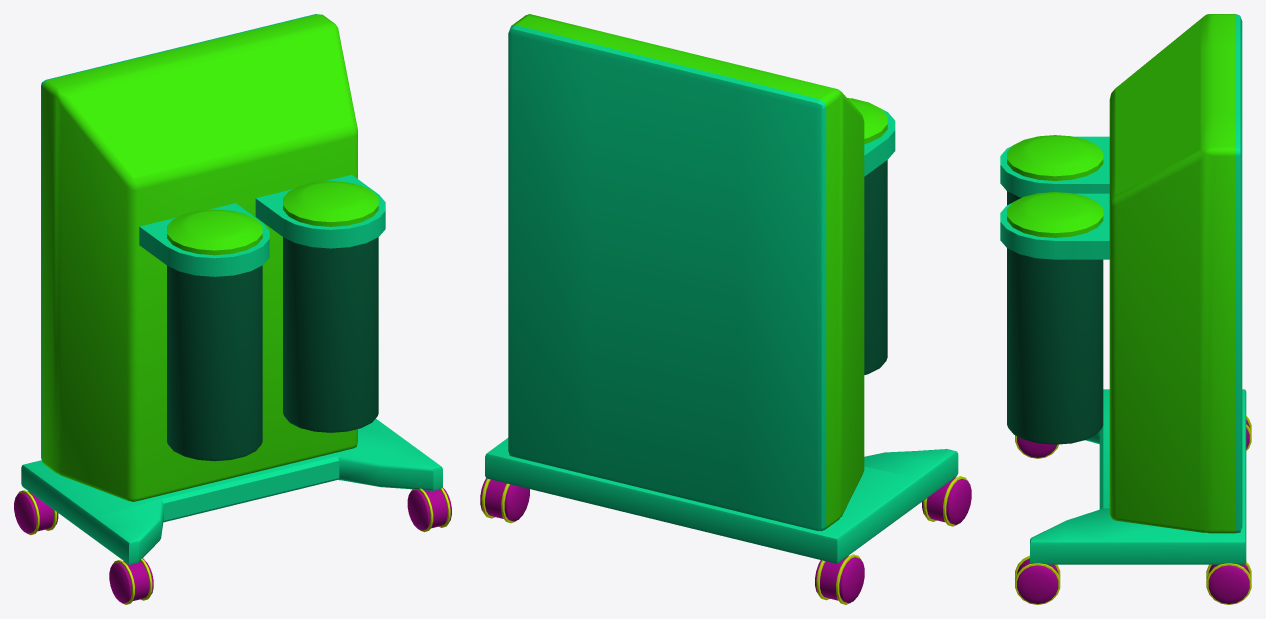
The model's file is RespiradorOxigenoChiquito.FBX.
The picture shows the model from 3 angles, left to right: view 1: azimuth 30°, elevation 25°; view 2: azimuth 150°, elevation 25°; view 3: azimuth 270°, elevation 25°; orthographic projection. The views are drawn at different scales.
Visible parts, largest first — view 1: Respirador07, Respirador02, Respirador01, Respirador06, Respirador03, Respirador05, Respirador00; view 2: Respirador07, Respirador06, Respirador02, Respirador00, Respirador03, Respirador04; view 3: Respirador07, Respirador01, Respirador06, Respirador02, Respirador05, Respirador04, Respirador03.
Part boxes in pixels (box(x1,y1,x2,y2)): Respirador07: box(41, 14, 357, 501); Respirador02: box(139, 203, 269, 461); Respirador01: box(255, 174, 385, 432); Respirador06: box(21, 418, 442, 564); Respirador03: box(109, 558, 153, 604); Respirador05: box(407, 487, 451, 532); Respirador00: box(14, 490, 58, 535); Respirador07: box(508, 14, 864, 531); Respirador06: box(485, 438, 958, 563); Respirador02: box(847, 98, 895, 374); Respirador00: box(815, 554, 864, 604); Respirador03: box(922, 476, 971, 526); Respirador04: box(480, 478, 529, 523); Respirador07: box(1109, 14, 1242, 533); Respirador01: box(1000, 192, 1109, 444); Respirador06: box(1030, 389, 1246, 564); Respirador02: box(1000, 135, 1109, 205); Respirador05: box(1015, 555, 1060, 604); Respirador04: box(1206, 562, 1251, 604); Respirador03: box(1015, 435, 1058, 458).
Bounding box in the file's own units: 54.44 × 70.75 × 36.09.
